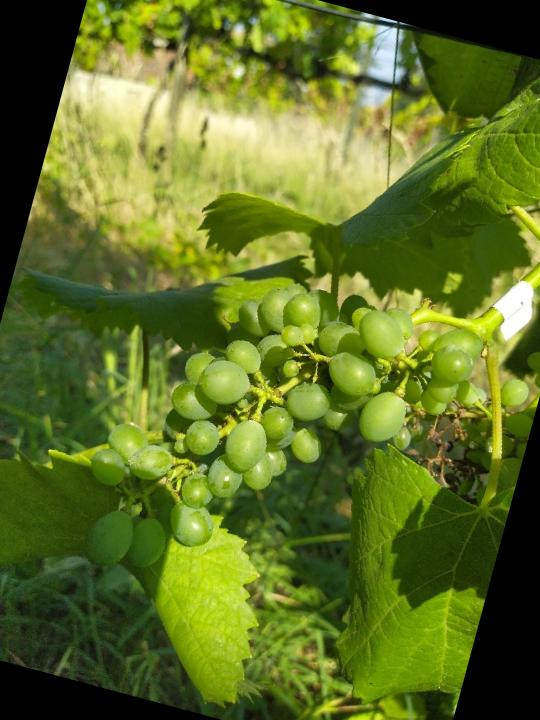grape: (62, 235, 506, 658)
